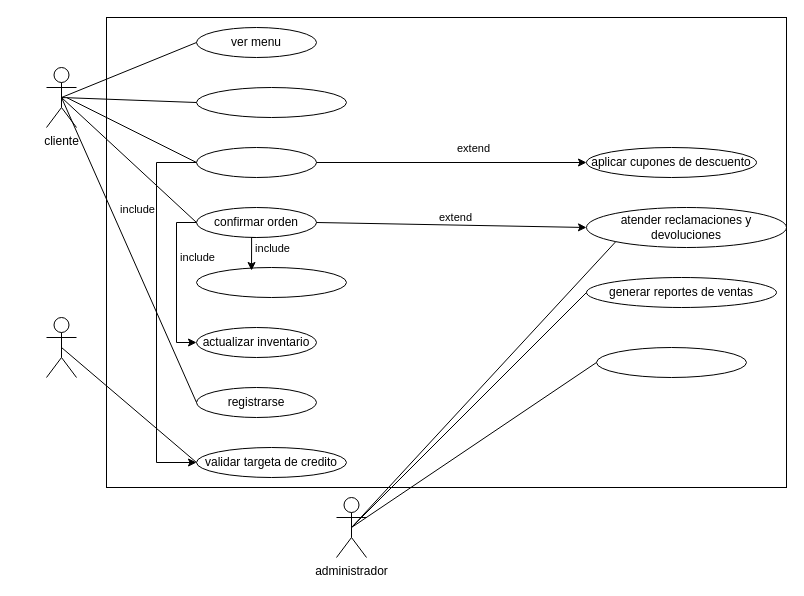
The diagram is 804 pixels wide and 596 high, and some of its shapes have lost their labels. The shapes that lost their labels are listed below. From the top down, each one's centre as x and y in pixels, then its label:
At [271,102]: "añadir productos al carrito".
At [256,162]: "realizar pago".
At [271,282]: "notificar tiempo de entrega".
At [61,347]: "sistema de pago".
At [671,362]: "modificar menu".
